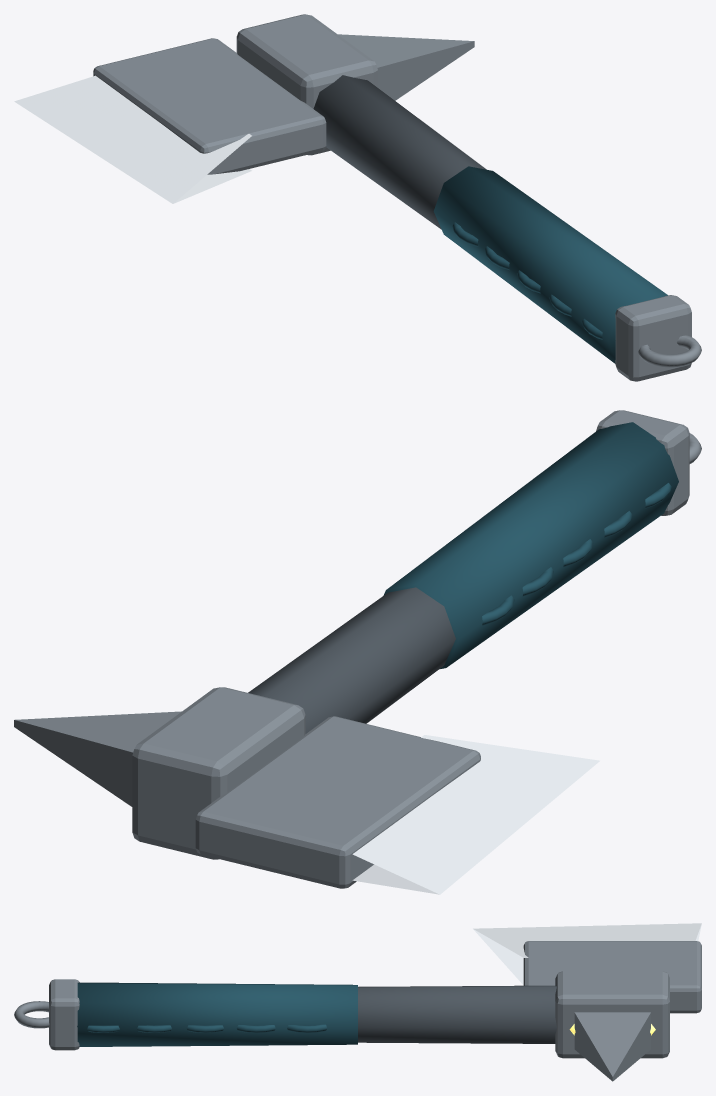
Rendered from weapon_axe.glb.
The picture shows the model from 3 angles, top to bottom: view 1: azimuth 30°, elevation 25°; view 2: azimuth 150°, elevation 25°; view 3: azimuth 270°, elevation 25°; orthographic projection. The views are drawn at different scales.
Parts seen in each view (by area): view 1: weapon_axe; view 2: weapon_axe; view 3: weapon_axe.
Boxes of the visible parts, left/top/right/bottom form: weapon_axe: left=14, top=14, right=701, bottom=381; weapon_axe: left=14, top=410, right=701, bottom=894; weapon_axe: left=14, top=923, right=701, bottom=1081.
Bounding box in the file's own units: 0.29 × 0.055 × 0.54.
